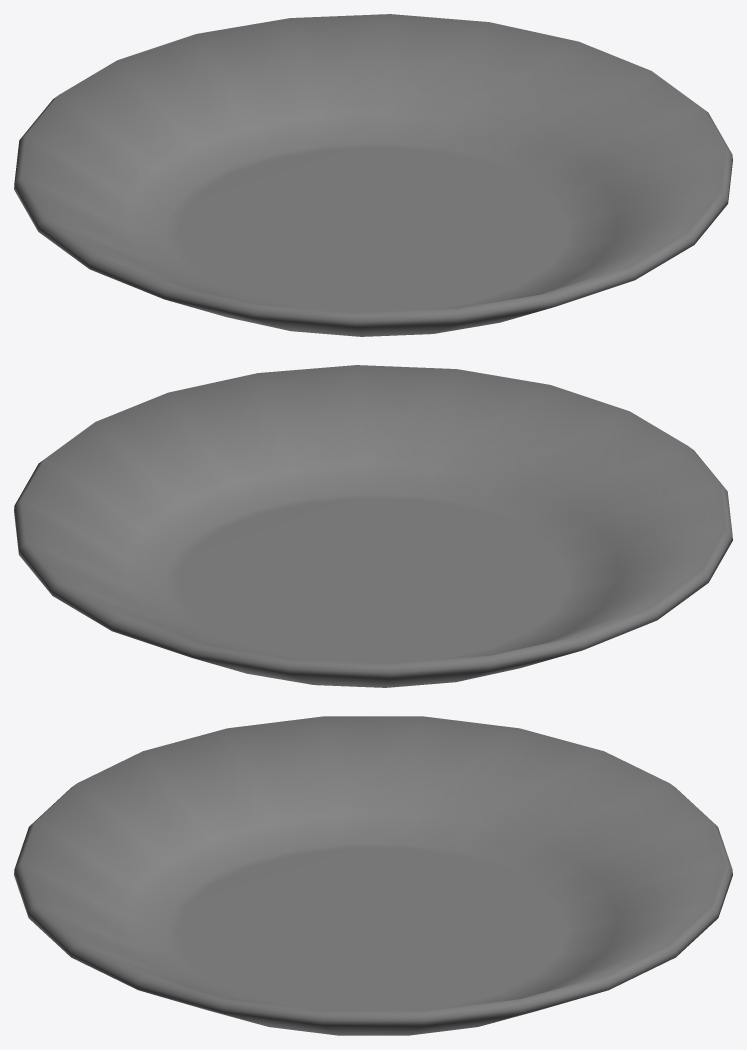
The model's file is dish.obj.
3 views of the same model, one above another, from view 1: azimuth 30°, elevation 25°; view 2: azimuth 150°, elevation 25°; view 3: azimuth 270°, elevation 25° (orthographic).
Visible parts, largest first — view 1: Circle; view 2: Circle; view 3: Circle.
Boxes of the visible parts, x1=… form: Circle: x1=14, y1=14, x2=732, y2=336; Circle: x1=14, y1=365, x2=732, y2=687; Circle: x1=14, y1=716, x2=732, y2=1035.
Bounding box in the file's own units: 3.41 × 0.4214 × 3.44.
Materials: 1 (1 with a texture image).
